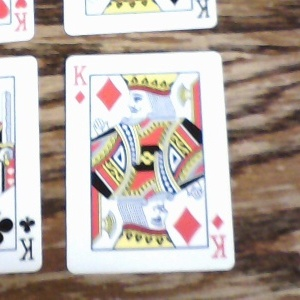card: (63, 51, 236, 273)
